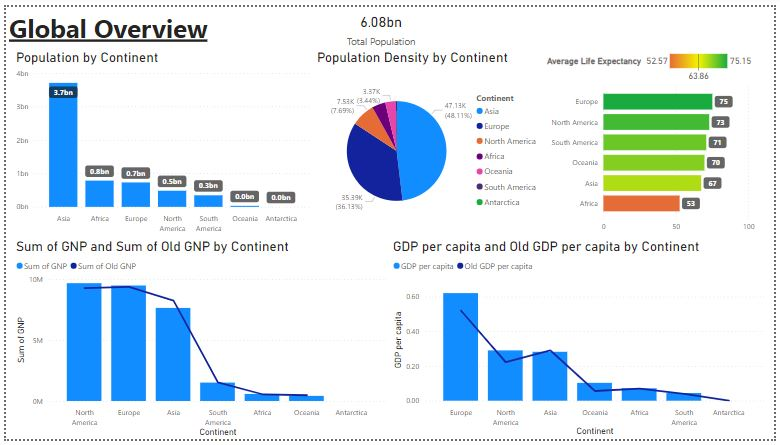

The dashboard page shown, as its layout file describes it:
{"tool":"powerbi","page":{"name":"Global Overview","canvas":[1280,720],"ordinal":0},"visuals":[{"type":"columnChart","fields":{"Category":["country.Continent"],"Y":["Sum(country.Population)"]},"box":[11.8,70.6,500.6,314.1],"z":0},{"type":"pieChart","fields":{"Y":["Sum(country.populationDensity)"],"Category":["country.Continent"]},"box":[512.6,70.6,384.5,313.9],"z":1000},{"type":"lineClusteredColumnComboChart","fields":{"Category":["country.Continent"],"Y":["Sum(country.GDP)"],"Y2":["Sum(country.oldGDP)"]},"box":[639.4,384.5,629.3,335.5],"z":2000},{"type":"clusteredBarChart","fields":{"Category":["country.Continent"],"Y":["Avg(country.LifeExpectancy)"]},"box":[897.1,70.6,383,313.9],"z":3000},{"type":"lineStackedColumnComboChart","fields":{"Category":["country.Continent"],"Y":["Sum(country.GNP)"],"Y2":["Sum(country.GNPOld)"]},"box":[11.8,384.7,628.2,336],"z":4000},{"type":"textbox","box":[0,0,512.3,70.6],"z":5000},{"type":"card","fields":{"Values":["Sum(country.Population)"]},"box":[512.3,0,226.8,70.6],"z":6000}]}

Visuals, with their boxes in screenshot pixels (x1, y1, x2, y2), scaled from the page's 1280x720 canvas onto the 780x445 screenshot:
columnChart - country.Continent x Sum(country.Population): <box>7,44,312,238</box>
pieChart - Sum(country.populationDensity) x country.Continent: <box>312,44,547,238</box>
lineClusteredColumnComboChart - country.Continent x Sum(country.GDP): <box>390,238,773,444</box>
clusteredBarChart - country.Continent x Avg(country.LifeExpectancy): <box>547,44,779,238</box>
lineStackedColumnComboChart - country.Continent x Sum(country.GNP): <box>7,238,390,444</box>
textbox: <box>0,0,312,44</box>
card - Sum(country.Population): <box>312,0,450,44</box>
